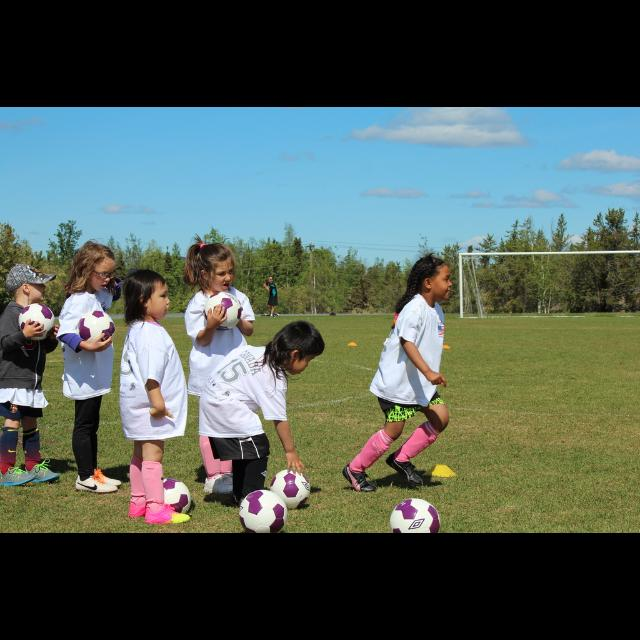Football: (236, 488, 288, 530), (270, 468, 314, 508), (387, 498, 438, 532), (203, 290, 241, 332), (74, 309, 116, 343), (18, 304, 54, 340), (160, 474, 192, 514)
